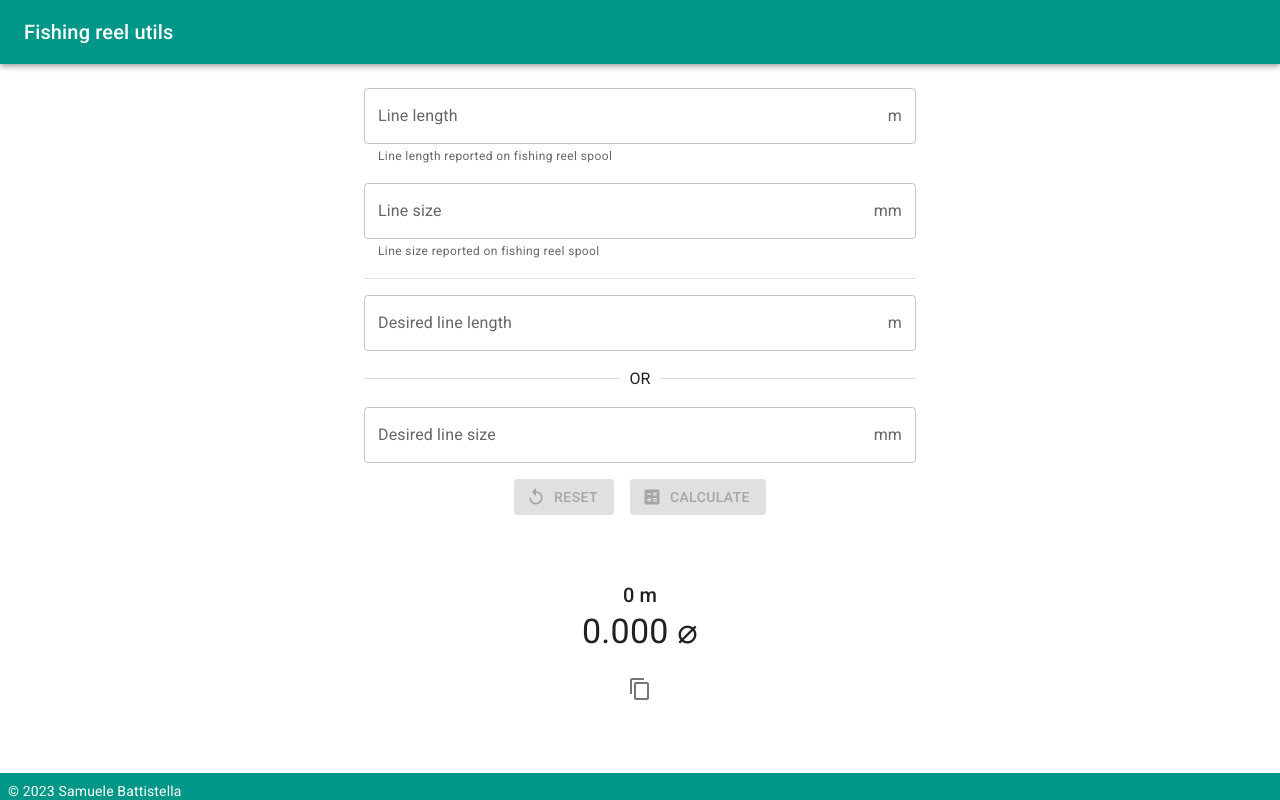
it: calculates line size by desired line length
This screenshot has width=1280, height=800.
Type "250" into the field labelled "Line length".
click(622, 116); type("250")  # box 364,88 -> 880,144
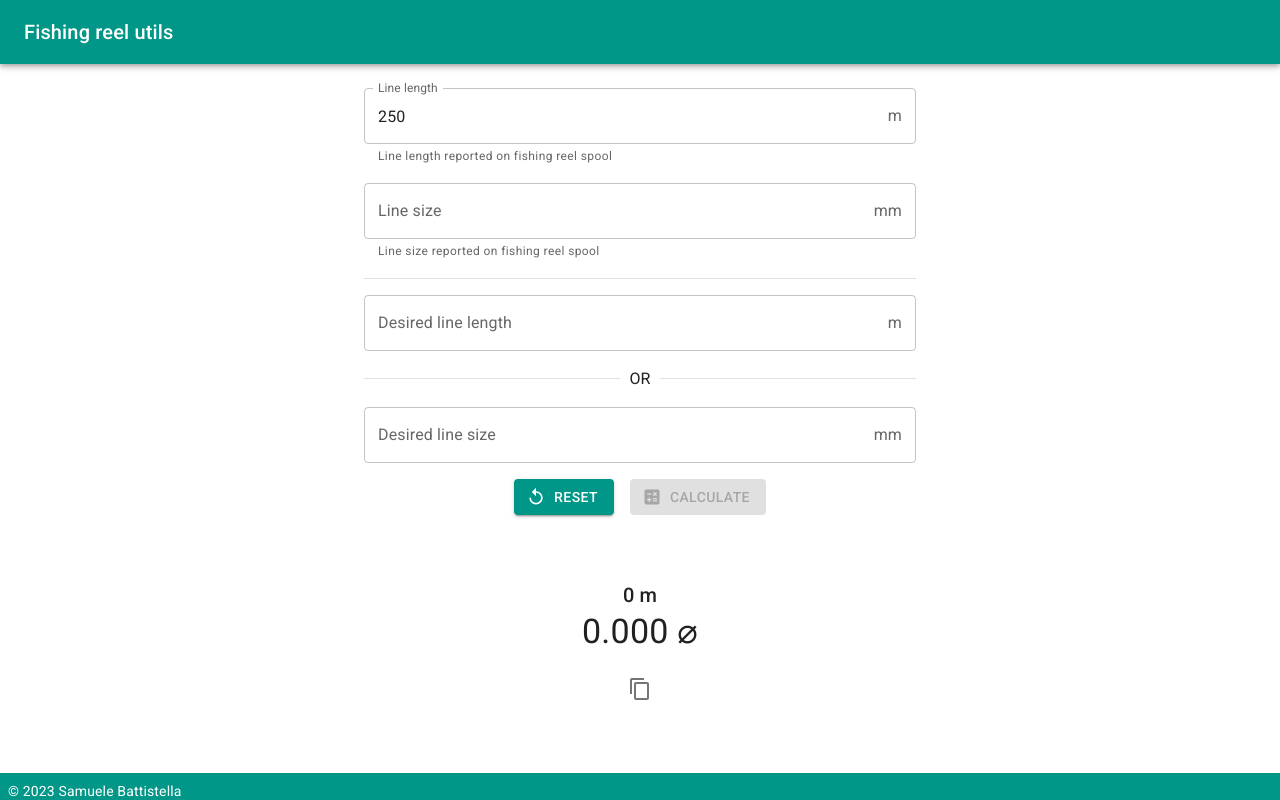
Type "0.20" into the field labelled "Line size".
click(615, 211); type("0.20")  # box 364,183 -> 866,239
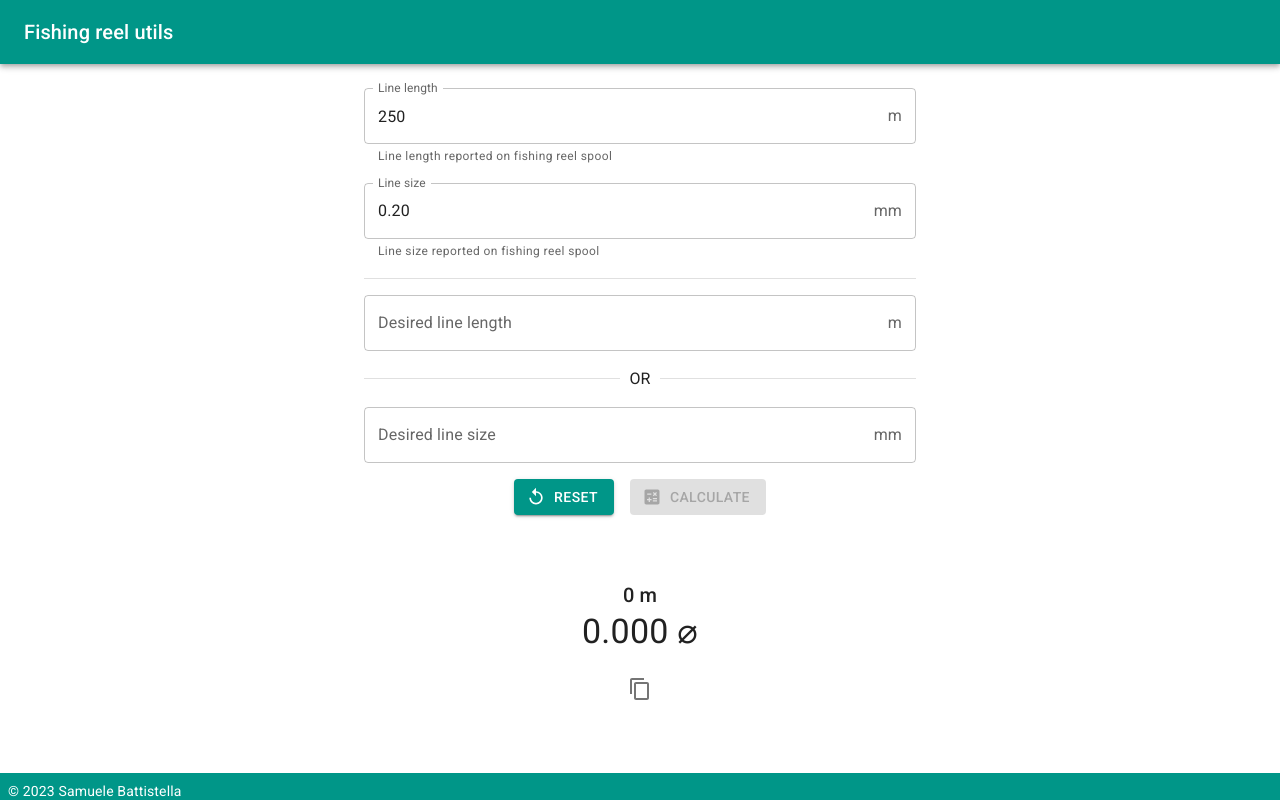
Type "200" into the field labelled "Desired line length".
click(622, 323); type("200")  # box 364,295 -> 880,351
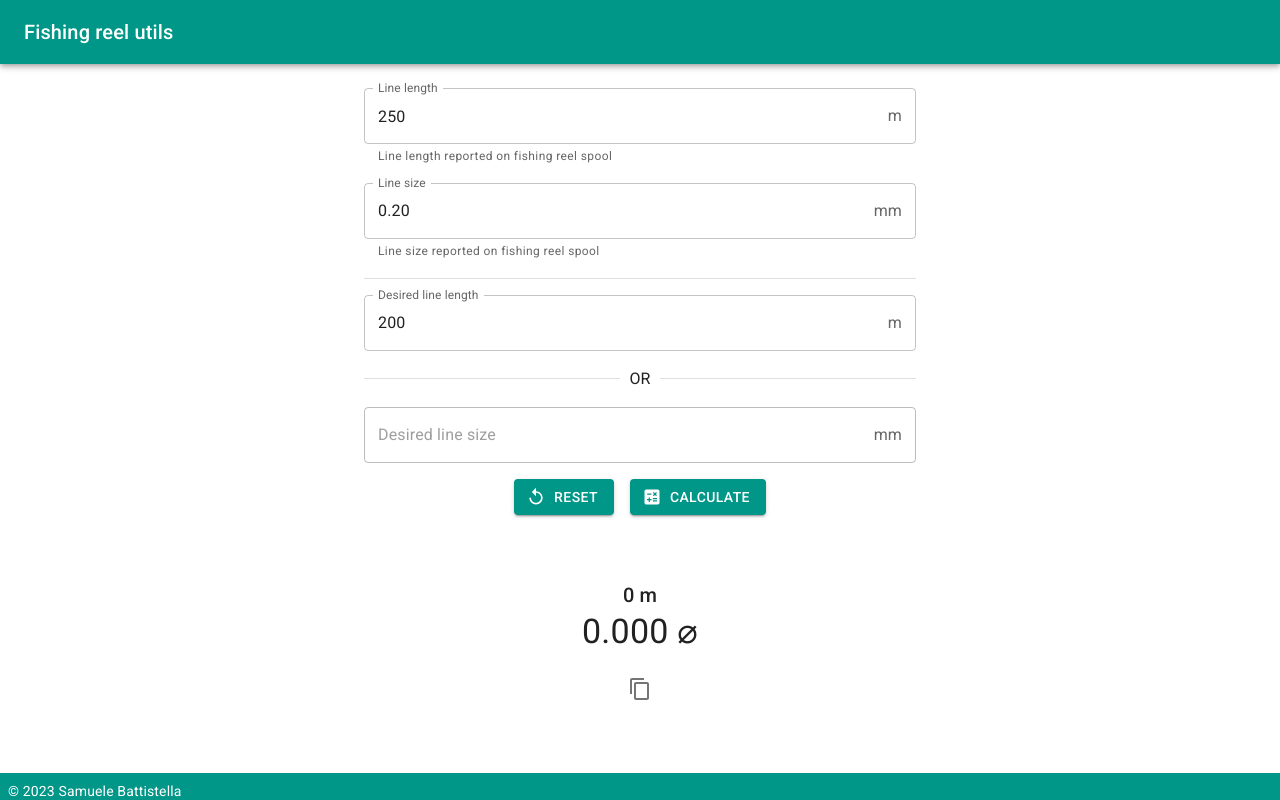
Click the button "Calculate".
click(698, 497)  # box 630,479 -> 766,515
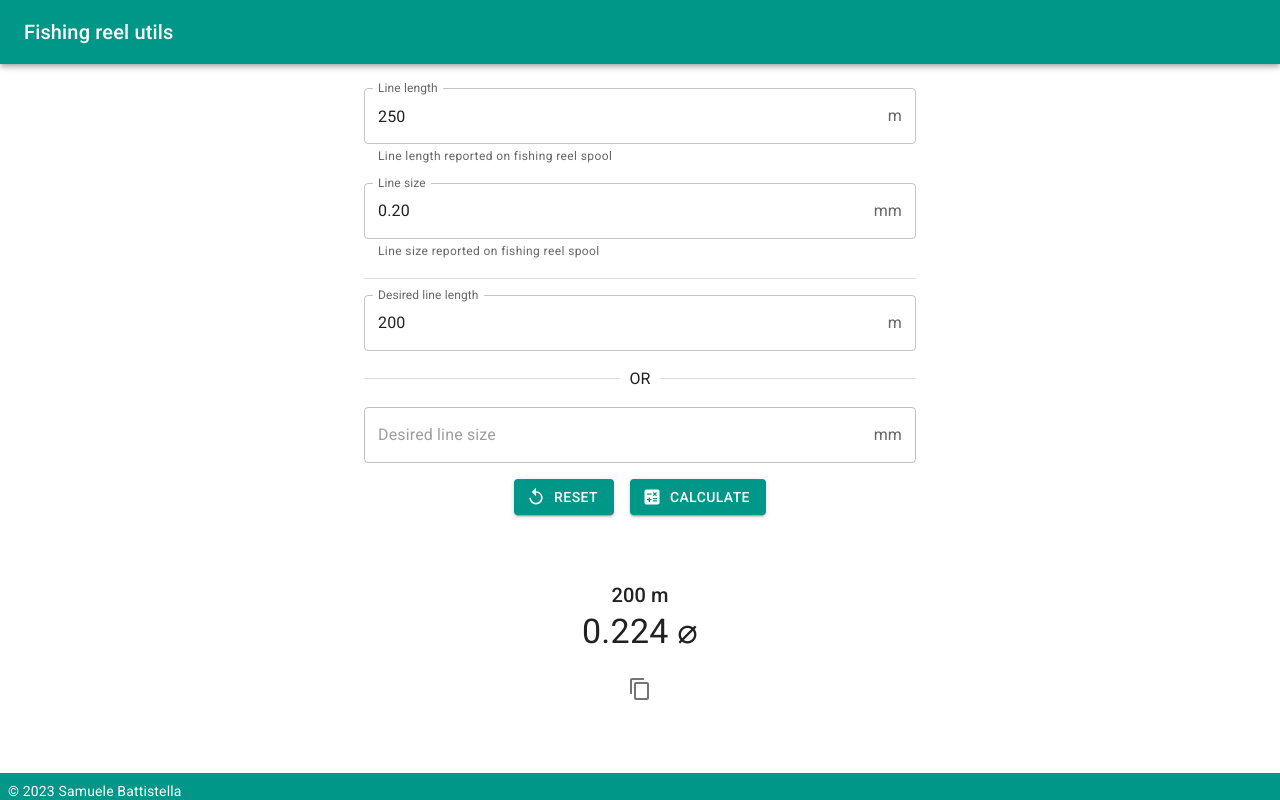
Check: the text "200 m" is shown, box 611,579 -> 669,611
Check: the text "0.224 ⌀" is shown, box 582,611 -> 698,653
